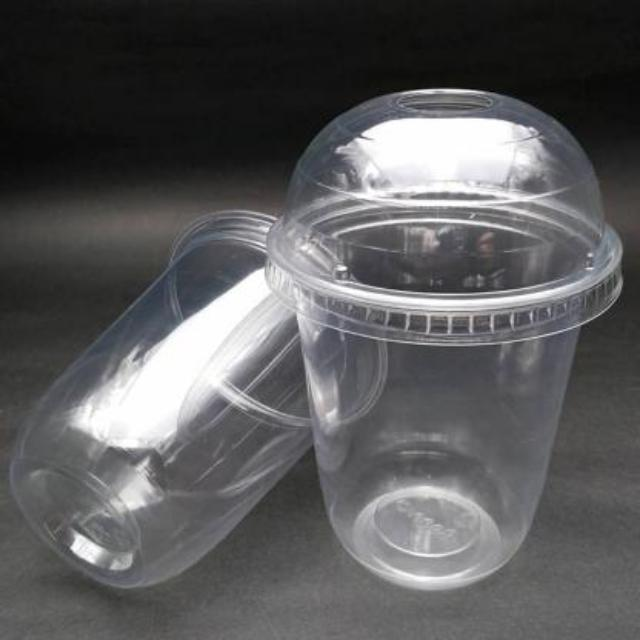plastic_cup: (264, 181, 624, 594), (8, 209, 384, 593)
plastic_cup_lid: (272, 72, 626, 346)
